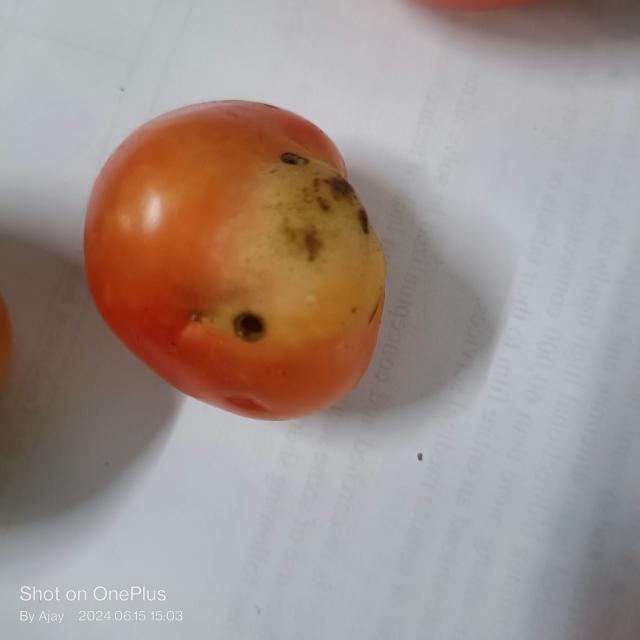fruitworm_bore: (226, 306, 271, 354), (274, 145, 314, 173)
